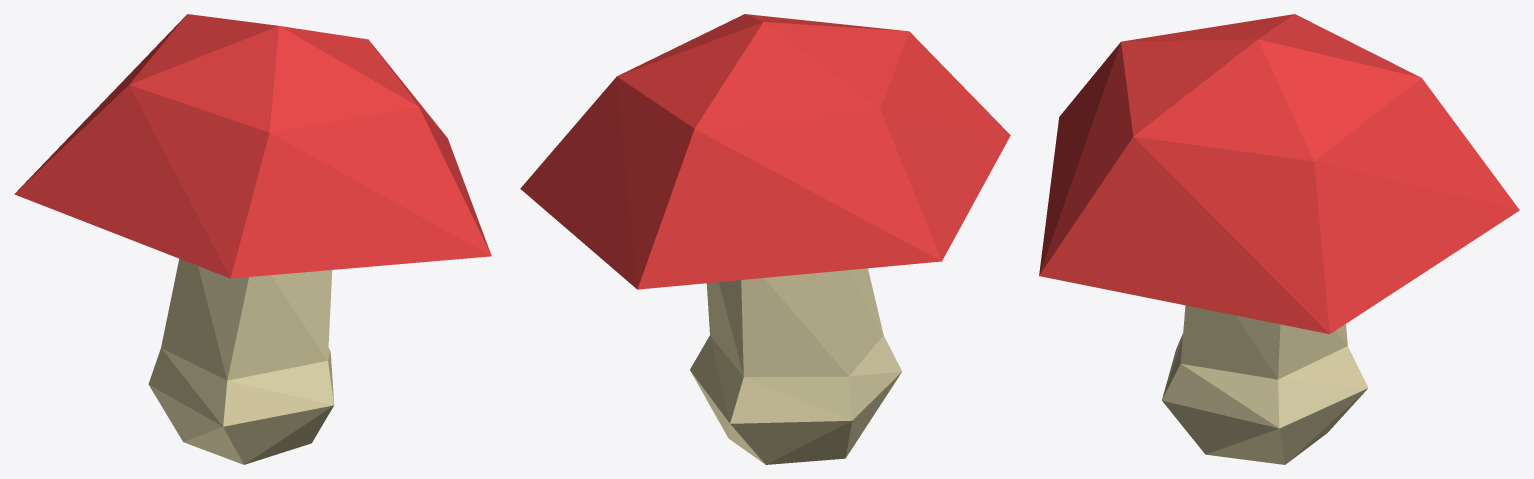
Rendered from Mushroom2.fbx.
The picture shows the model from 3 angles, left to right: view 1: azimuth 30°, elevation 25°; view 2: azimuth 150°, elevation 25°; view 3: azimuth 270°, elevation 25°; orthographic projection. The views are drawn at different scales.
Parts seen in each view (by area): view 1: Mushroom2; view 2: Mushroom2; view 3: Mushroom2.
Part boxes in pixels (x1=…): Mushroom2: x1=14, y1=14, x2=491, y2=464; Mushroom2: x1=520, y1=14, x2=1010, y2=464; Mushroom2: x1=1039, y1=14, x2=1519, y2=464.
Size of the model in its own units: 128 by 121 by 122.
